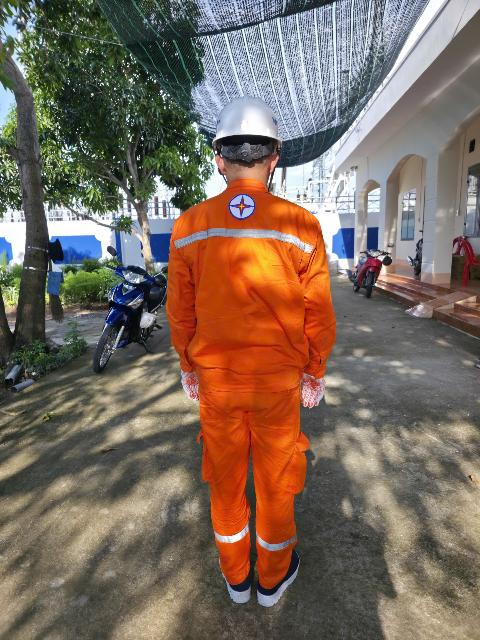gloves: (163, 360, 215, 402), (280, 363, 330, 405)
helmet: (208, 84, 290, 160)
shoes: (247, 544, 305, 611), (208, 547, 250, 604)
